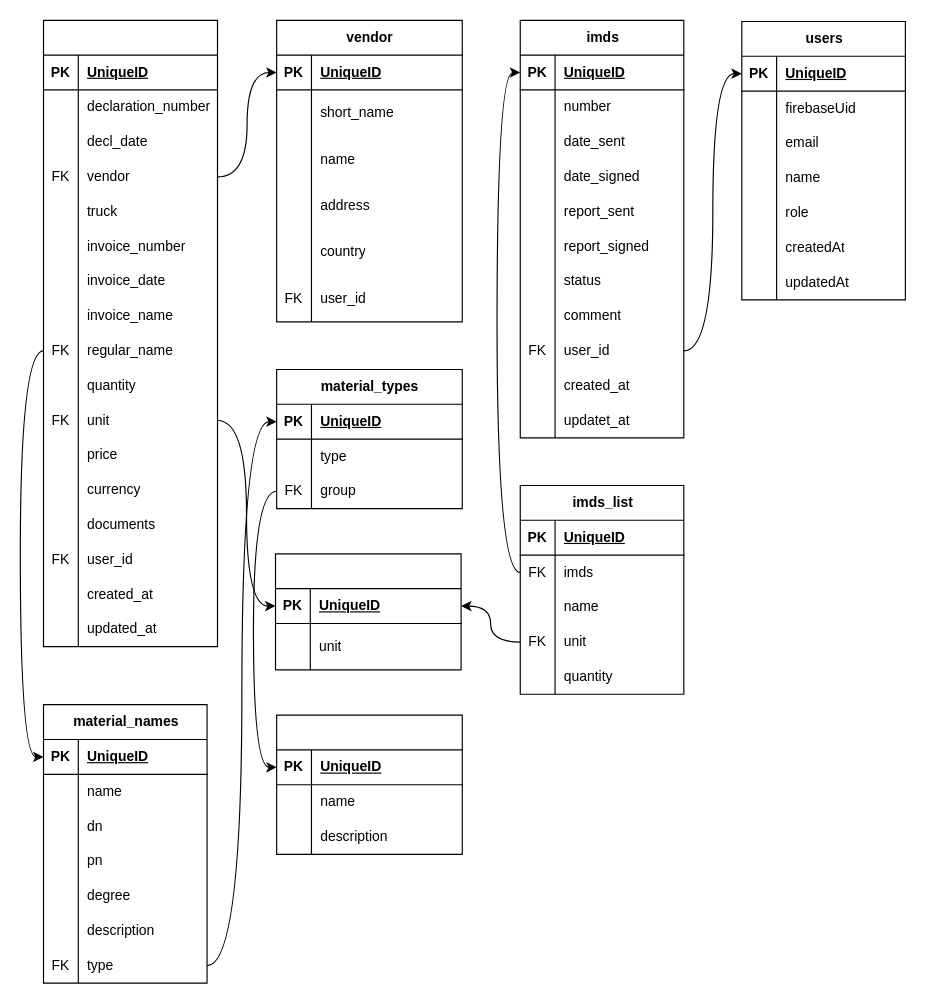
Some shapes in this 926 by 1003 pixel diagram are drawn without their labels. Each missing label, with the box of its shape:
material_groups: (276, 714, 462, 854)
Purchase: (42, 19, 217, 647)
units: (274, 553, 461, 670)
